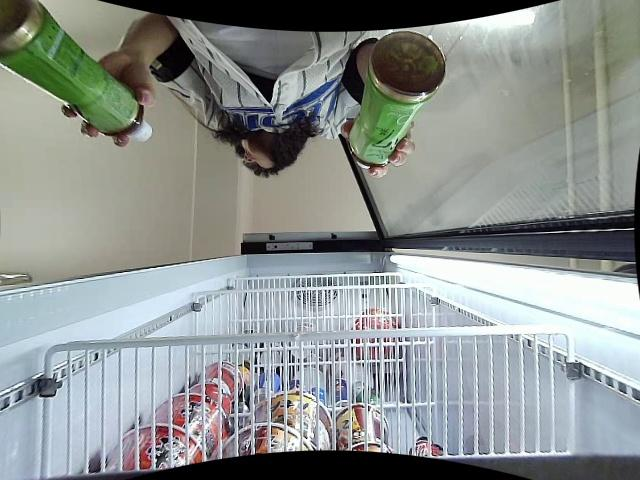00_hand: (60, 50, 158, 146), (341, 118, 416, 179)
19_17cha: (0, 0, 153, 144), (346, 31, 448, 169)
